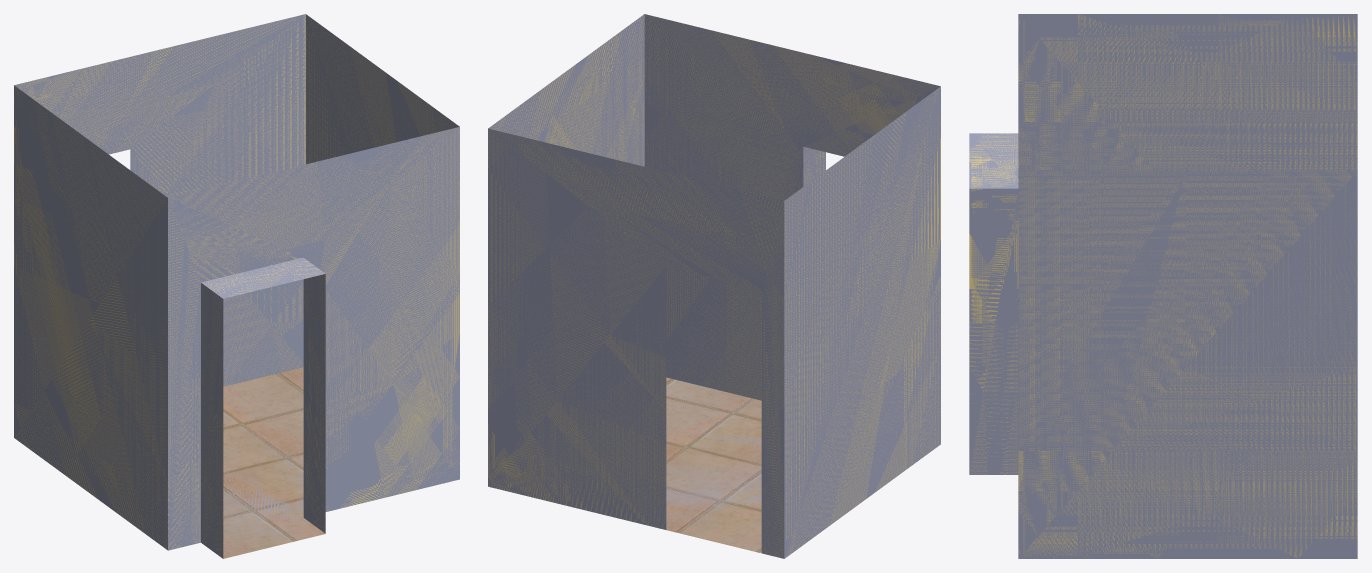
Rendered from DES058.obj.
3 renders of one model, left to right at view 1: azimuth 30°, elevation 25°; view 2: azimuth 150°, elevation 25°; view 3: azimuth 270°, elevation 25°, orthographic. The views are drawn at different scales.
Parts seen in each view (by area): view 1: Mesh1 DES058 Model; view 2: Mesh1 DES058 Model; view 3: Mesh1 DES058 Model.
Part boxes in pixels (x1=…): Mesh1 DES058 Model: x1=14, y1=14, x2=459, y2=558; Mesh1 DES058 Model: x1=488, y1=14, x2=940, y2=558; Mesh1 DES058 Model: x1=969, y1=14, x2=1357, y2=558.
Bounding box in the file's own units: 2.6 × 3 × 2.72.
3 materials, 1 textured.
